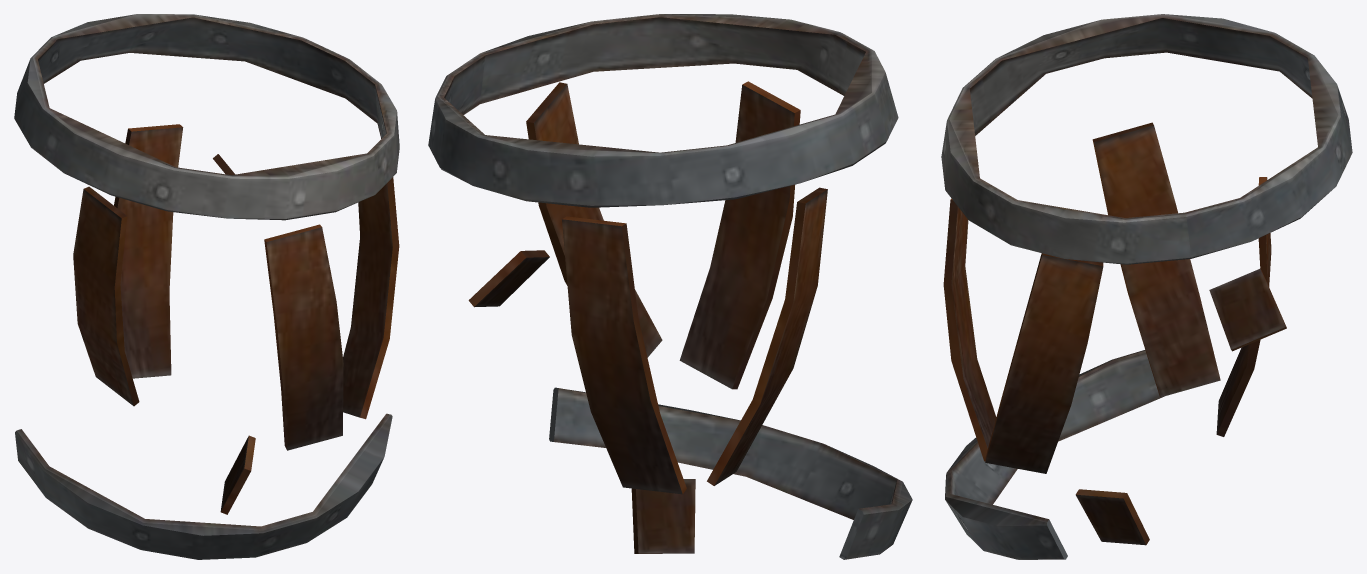
3 renders of one model, left to right at view 1: azimuth 30°, elevation 25°; view 2: azimuth 150°, elevation 25°; view 3: azimuth 270°, elevation 25°, orthographic. The views are drawn at different scales.
Parts seen in each view (by area): view 1: barrelbroken; view 2: barrelbroken; view 3: barrelbroken.
Boxes of the visible parts, x1,y1,x2,y2 form: barrelbroken: [14, 14, 399, 559]; barrelbroken: [428, 14, 912, 559]; barrelbroken: [941, 14, 1352, 559].
Size of the model in its own units: 0.6818 by 0.7999 by 0.6615.
1 material, 1 textured.
